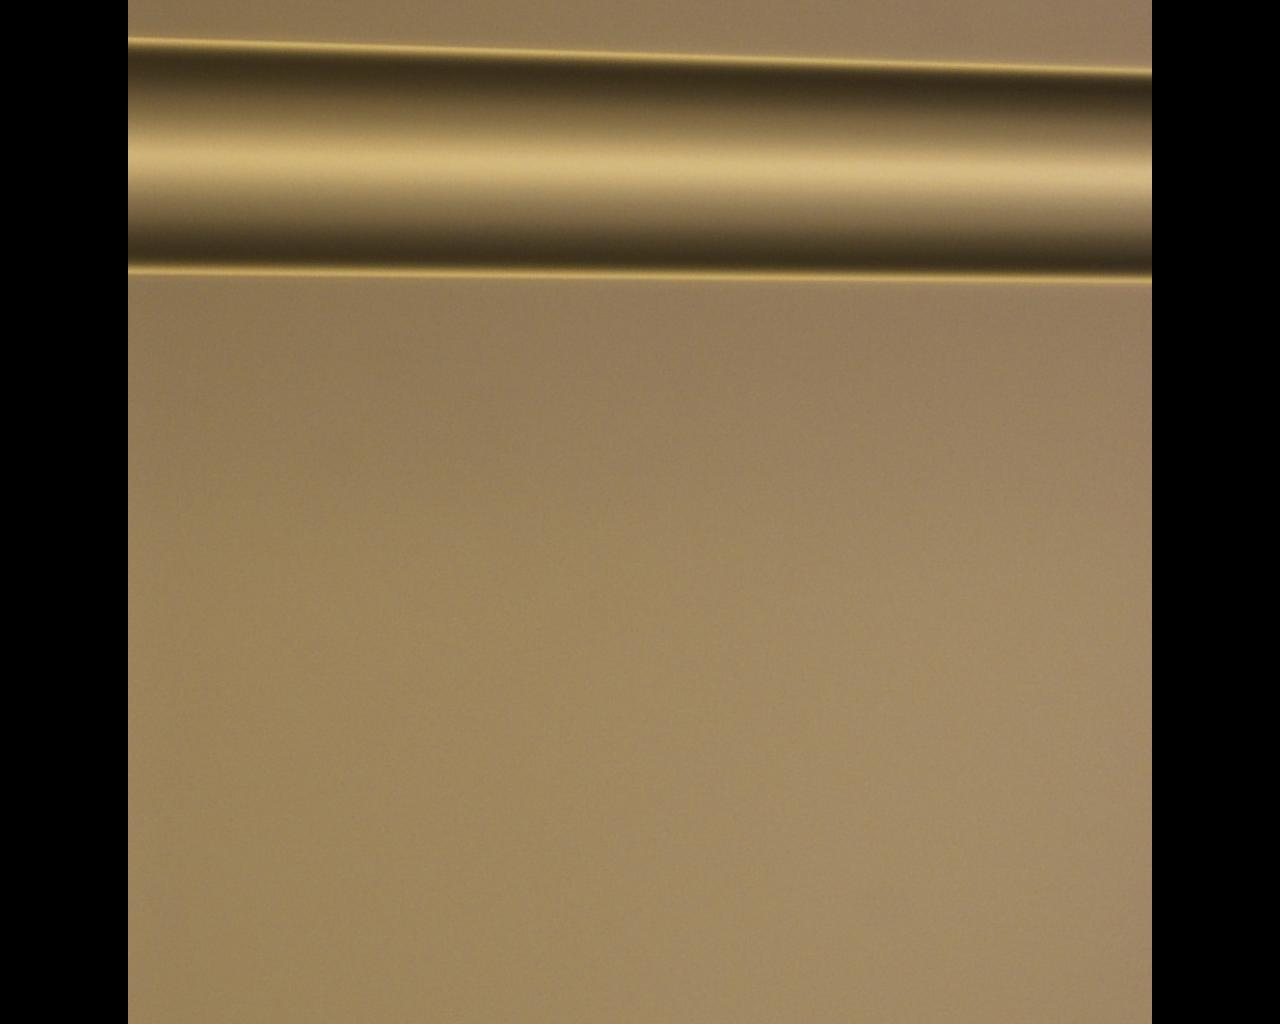fiber: (128, 332, 1152, 668)
